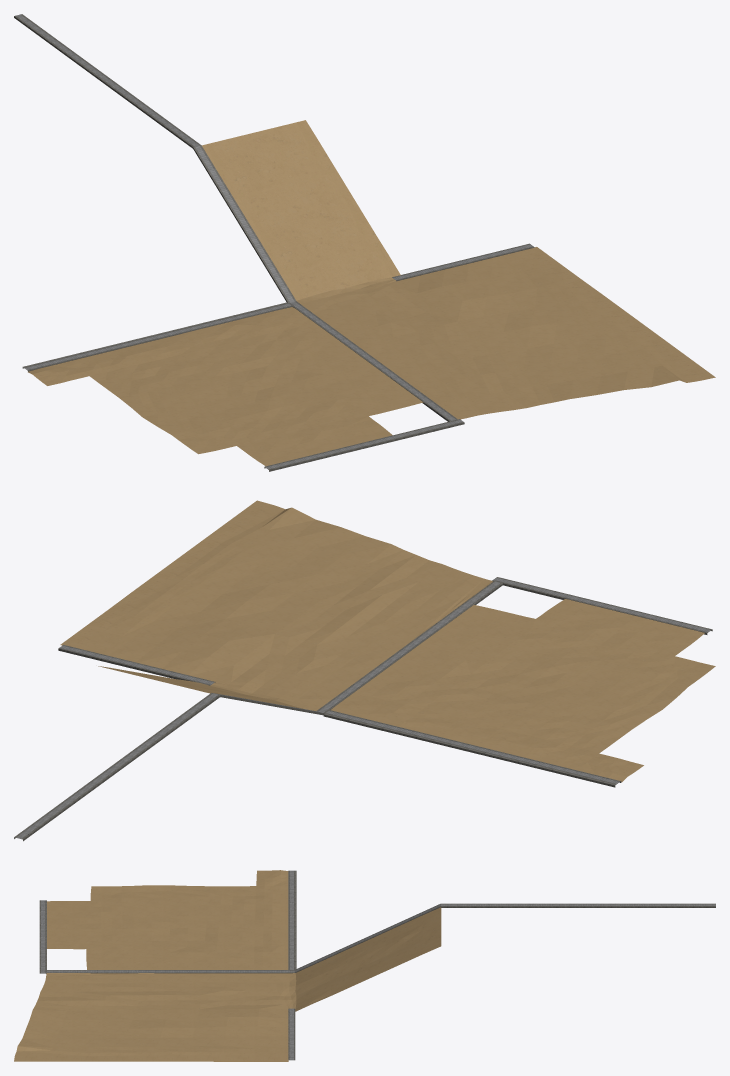
The model's file is SM_ENV_KNVLLG_ground_05.mo.fbx.
3 views of the same model, one above another, from view 1: azimuth 30°, elevation 25°; view 2: azimuth 150°, elevation 25°; view 3: azimuth 270°, elevation 25° (orthographic). The views are drawn at different scales.
Parts seen in each view (by area): view 1: SM_ENV_KNVLLG_ground_05.mo; view 2: SM_ENV_KNVLLG_ground_05.mo; view 3: SM_ENV_KNVLLG_ground_05.mo.
Boxes of the visible parts, x1,y1,x2,y2 form: SM_ENV_KNVLLG_ground_05.mo: [14, 14, 715, 471]; SM_ENV_KNVLLG_ground_05.mo: [14, 500, 715, 841]; SM_ENV_KNVLLG_ground_05.mo: [14, 870, 715, 1061].
Size of the model in its own units: 99.32 by 16.41 by 154.
